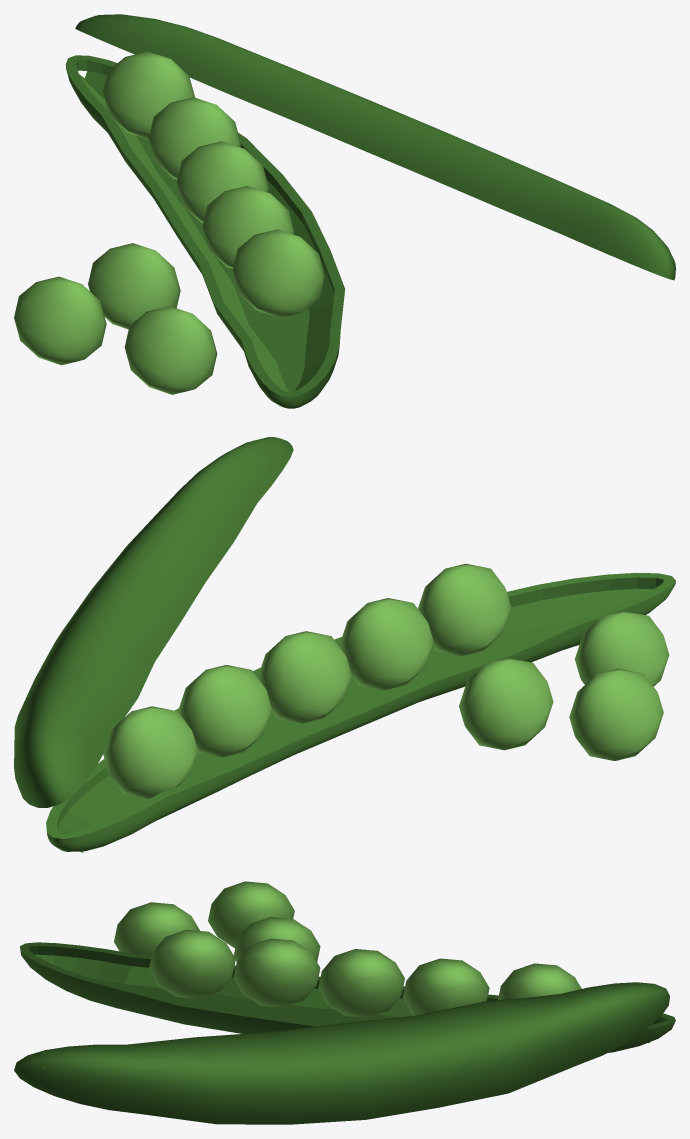
Rendered from broad-beans-harvest.glb.
3 views of the same model, one above another, from view 1: azimuth 30°, elevation 25°; view 2: azimuth 150°, elevation 25°; view 3: azimuth 270°, elevation 25° (orthographic). The views are drawn at different scales.
Visible parts, largest first — view 1: Capsule002; view 2: Capsule002; view 3: Capsule002.
Boxes of the visible parts, x1,y1,x2,y2 form: Capsule002: (14, 14, 675, 408); Capsule002: (14, 437, 675, 852); Capsule002: (14, 881, 675, 1124).
Bounding box in the file's own units: 0.7588 × 0.1454 × 1.
